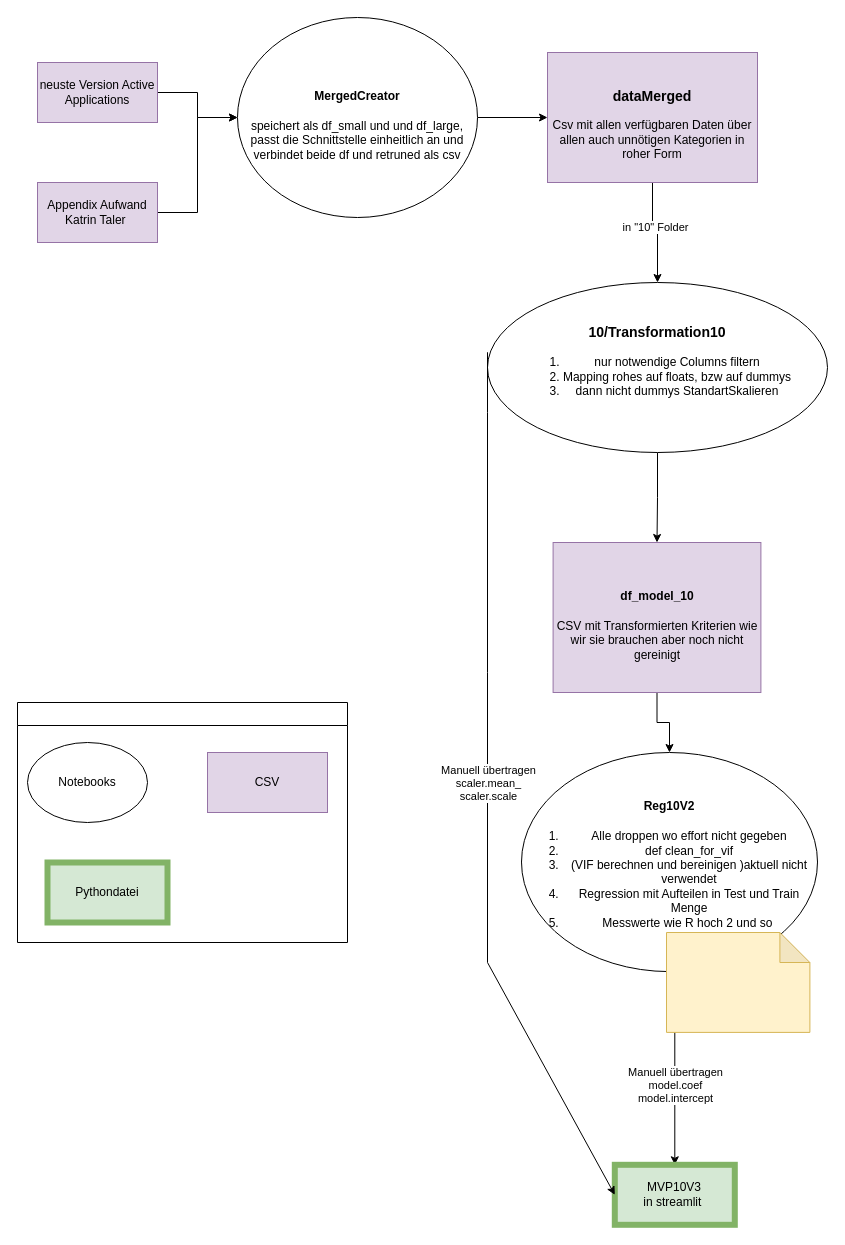
Image size: 845x1245. Some labels were removed from this diagram. Here are the shapes that lost their labels. From the top down, the box of each, then its label:
(16, 702, 348, 942): Legende
(666, 932, 810, 1032): Regressionskoeffizienten Itercept-wert
